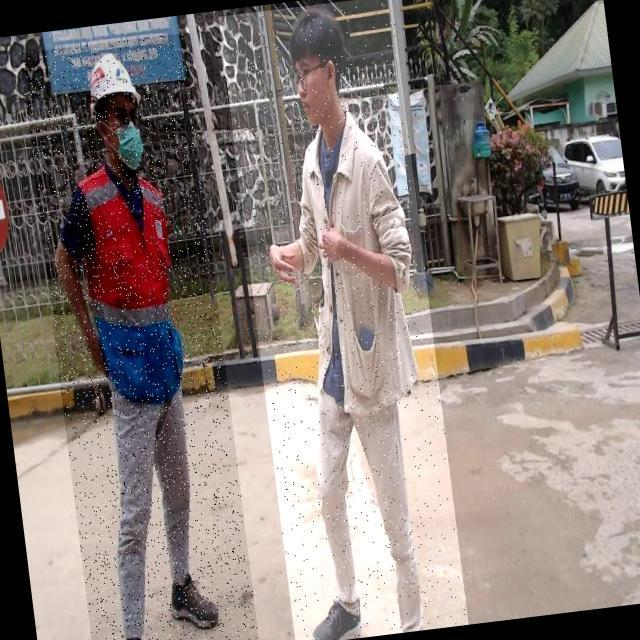Helmet: (82, 50, 143, 119)
Person: (42, 37, 234, 640), (259, 4, 440, 640)
Safety Boot: (167, 571, 221, 638), (304, 594, 366, 640)
Safety Vest: (74, 155, 191, 406)
bare-arms: (319, 212, 358, 272), (268, 229, 302, 296), (81, 319, 111, 385)
no-helmet: (282, 13, 352, 59)
no-vest: (295, 118, 415, 417)
